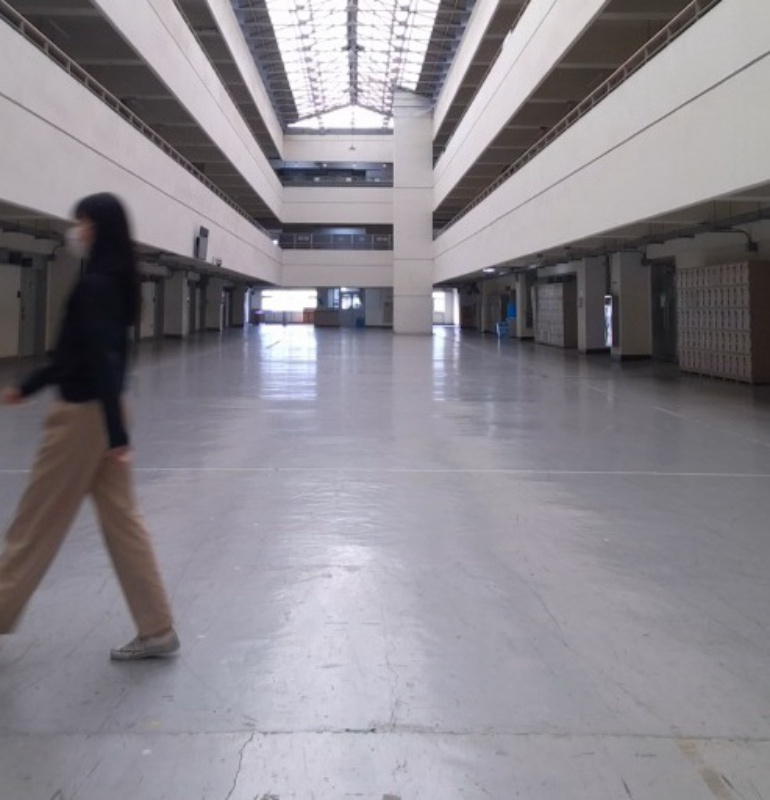person: (3, 191, 181, 665)
